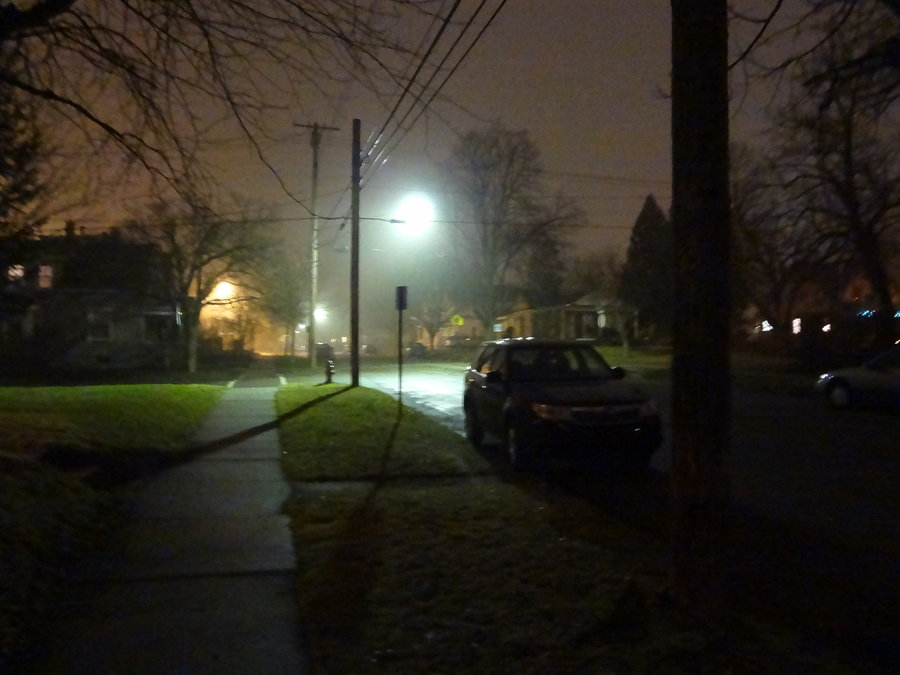car: (454, 326, 669, 488)
